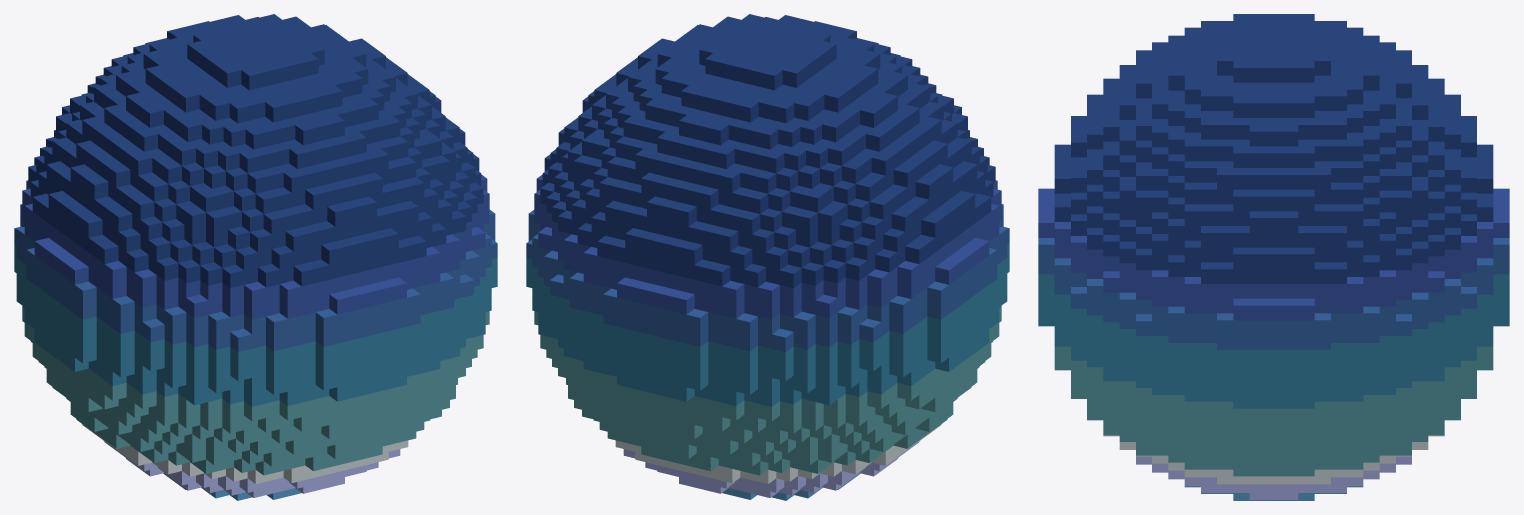
Rendered from Uranus-0.obj.
3 renders of one model, left to right at view 1: azimuth 30°, elevation 25°; view 2: azimuth 150°, elevation 25°; view 3: azimuth 270°, elevation 25°, orthographic.
Visible parts, largest first — view 1: Uranus-0; view 2: Uranus-0; view 3: Uranus-0.
Part boxes in pixels (box(x1,y1,x2,y2)): Uranus-0: box(14, 14, 497, 500); Uranus-0: box(526, 14, 1009, 500); Uranus-0: box(1038, 14, 1509, 500).
Bounding box in the file's own units: 29 × 29 × 29.
Materials: 1 (1 with a texture image).
